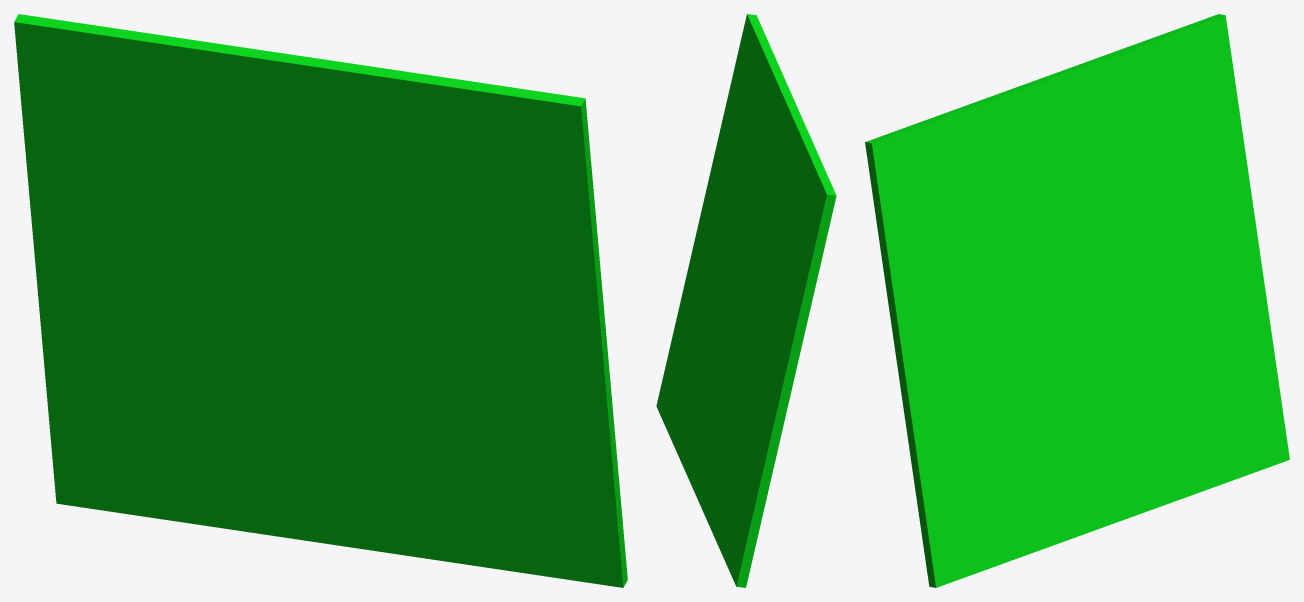
The picture shows the model from 3 angles, left to right: view 1: azimuth 30°, elevation 25°; view 2: azimuth 150°, elevation 25°; view 3: azimuth 270°, elevation 25°; orthographic projection. The views are drawn at different scales.
Visible parts, largest first — view 1: plane3; view 2: plane3; view 3: plane3.
Boxes of the visible parts, bbox=[...] form: plane3: bbox=[14, 14, 627, 587]; plane3: bbox=[656, 14, 836, 587]; plane3: bbox=[865, 14, 1289, 587].
Size of the model in its own units: 115 by 136 by 126.
